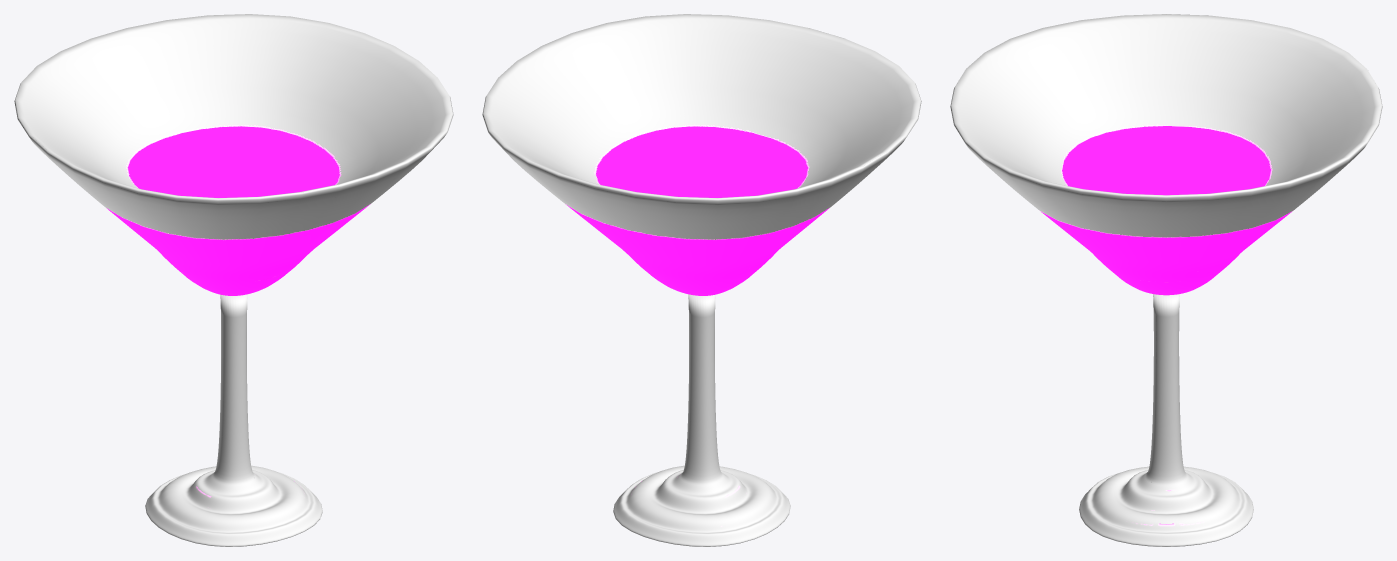
The model's file is drink3.fbx.
3 views of the same model, side by side, from view 1: azimuth 30°, elevation 25°; view 2: azimuth 150°, elevation 25°; view 3: azimuth 270°, elevation 25° (orthographic).
Parts seen in each view (by area): view 1: drink3_Baked; view 2: drink3_Baked; view 3: drink3_Baked.
Boxes of the visible parts, left/top/right/bottom form: drink3_Baked: left=14, top=14, right=453, bottom=546; drink3_Baked: left=482, top=14, right=921, bottom=546; drink3_Baked: left=950, top=14, right=1382, bottom=546.
Size of the model in its own units: 695 by 724 by 695.
1 material, 1 textured.
